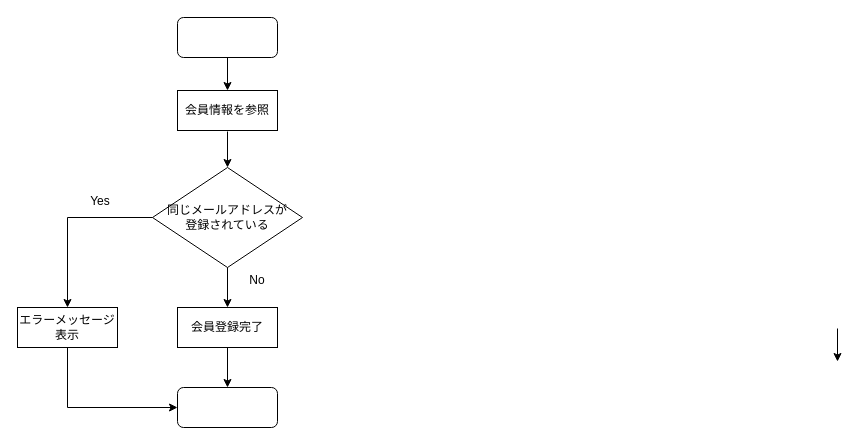
Some shapes in this 863 by 445 pixel diagram are drawn without their labels. Each missing label, with the centre of its shape:
"終了" belongs at (x=227, y=407).
"開始" belongs at (x=227, y=37).
